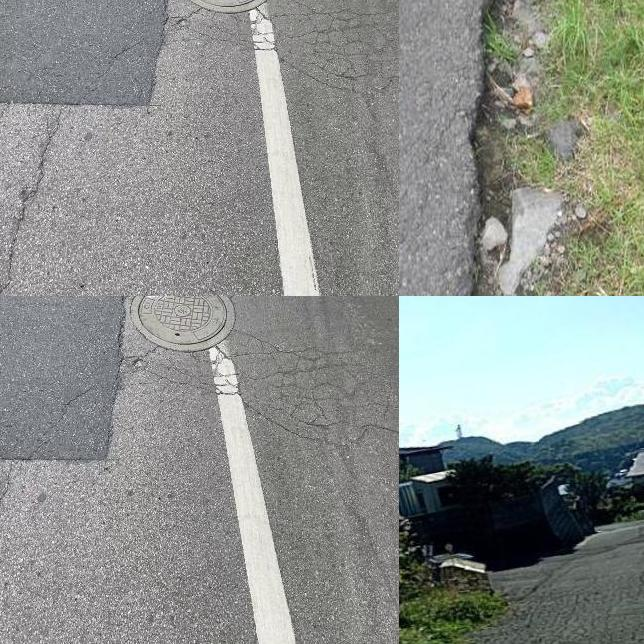Lubang: (133, 296, 237, 352)
Pinggir: (405, 0, 554, 296)
Sambungan: (0, 296, 124, 465), (0, 0, 167, 106)
